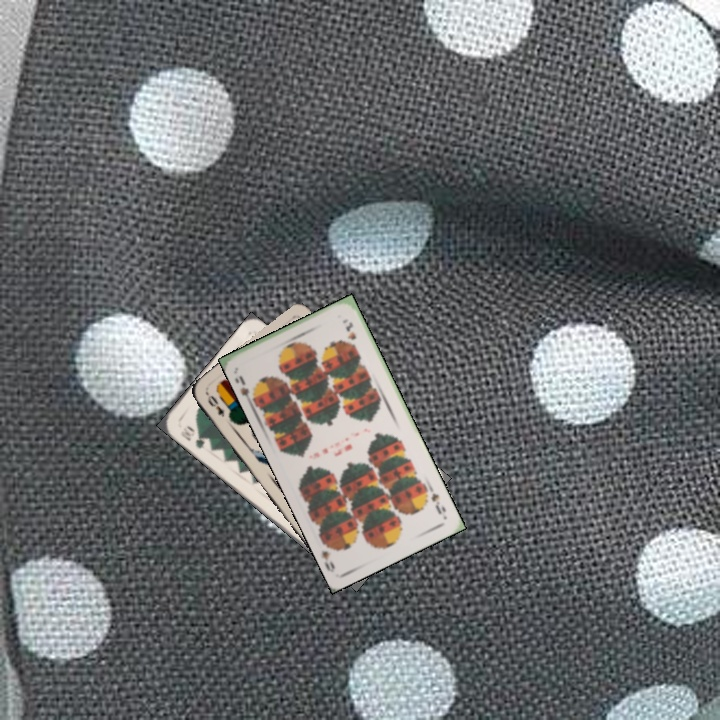EO: (202, 389, 227, 420)
G10: (176, 421, 207, 451)
S9: (422, 482, 449, 517), (235, 371, 261, 406)
